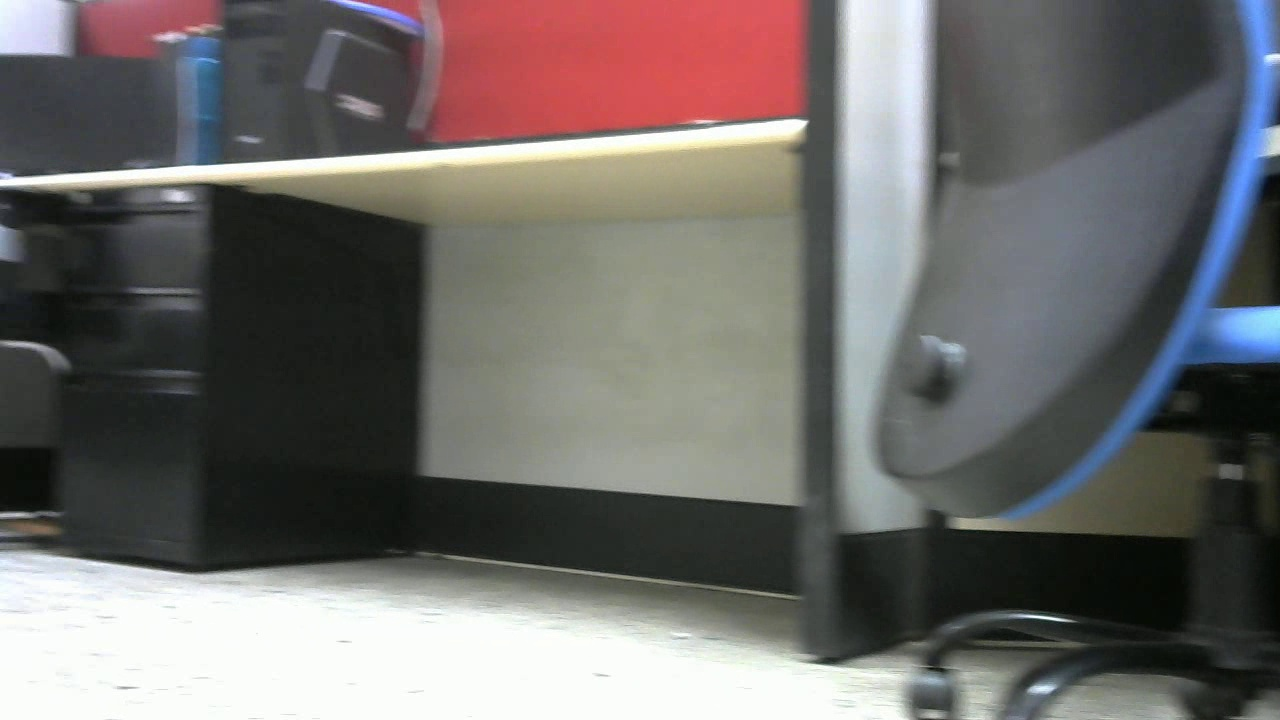chair: (876, 1, 1280, 720)
